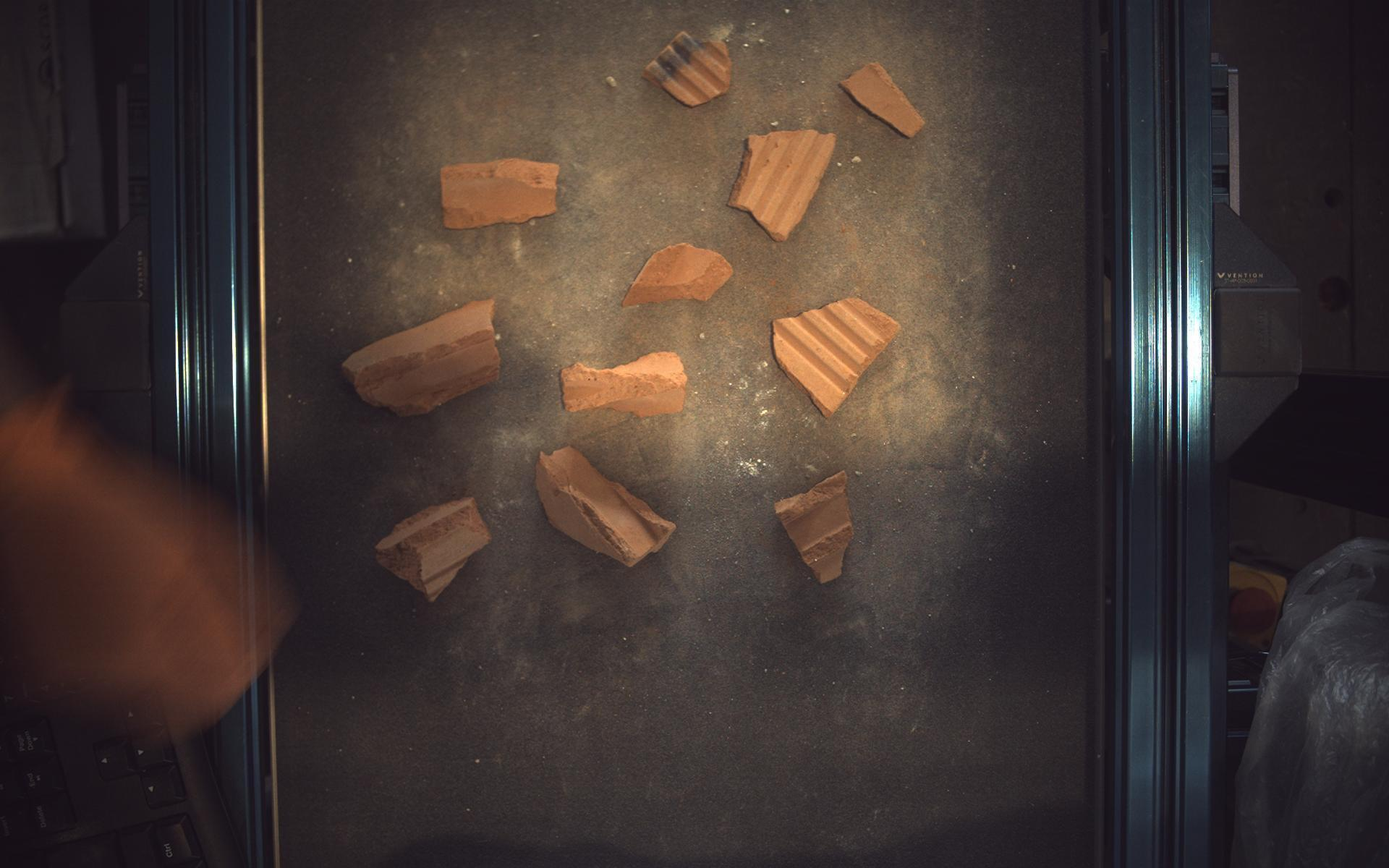brick: (342, 299, 501, 416), (536, 447, 676, 567), (774, 297, 901, 418), (729, 129, 838, 241), (375, 498, 490, 603), (776, 471, 855, 584), (441, 157, 560, 228), (562, 352, 689, 417), (623, 242, 734, 307), (643, 30, 733, 106), (841, 62, 927, 136)
